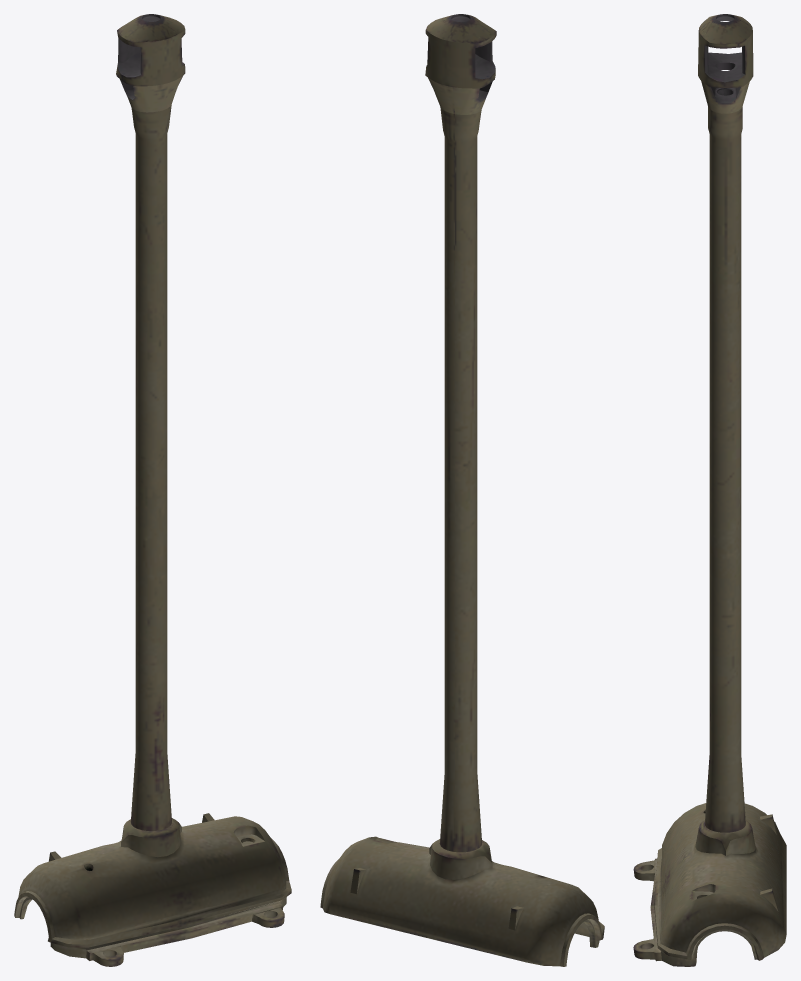
The model's file is Gun_04.glb.
3 views of the same model, side by side, from view 1: azimuth 30°, elevation 25°; view 2: azimuth 150°, elevation 25°; view 3: azimuth 270°, elevation 25° (orthographic). The views are drawn at different scales.
Parts seen in each view (by area): view 1: set_0_group_0; view 2: set_0_group_0; view 3: set_0_group_0.
Part boxes in pixels (bbox=[...]): set_0_group_0: bbox=[14, 14, 291, 966]; set_0_group_0: bbox=[320, 14, 604, 966]; set_0_group_0: bbox=[633, 14, 786, 966].
Size of the model in its own units: 1.55 by 5.51 by 0.852.
Materials: 1 (1 with a texture image).
